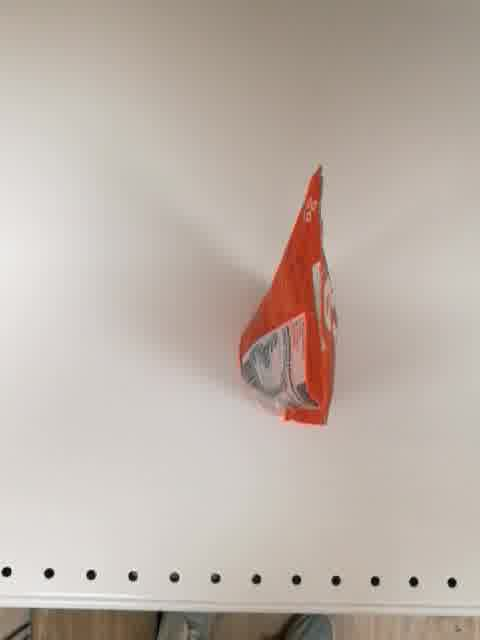whitechia: (232, 160, 344, 428)
